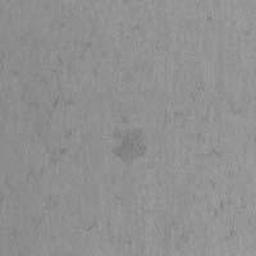Oil spot: (110, 113, 151, 170)
